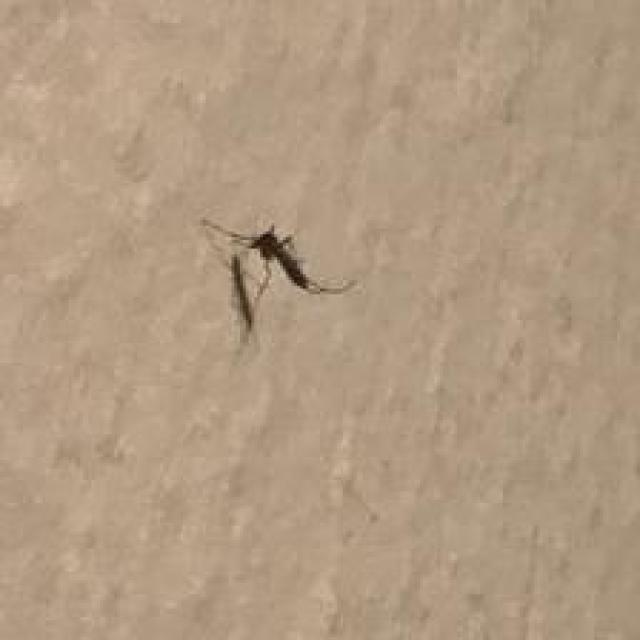Culex: (200, 214, 357, 343)
